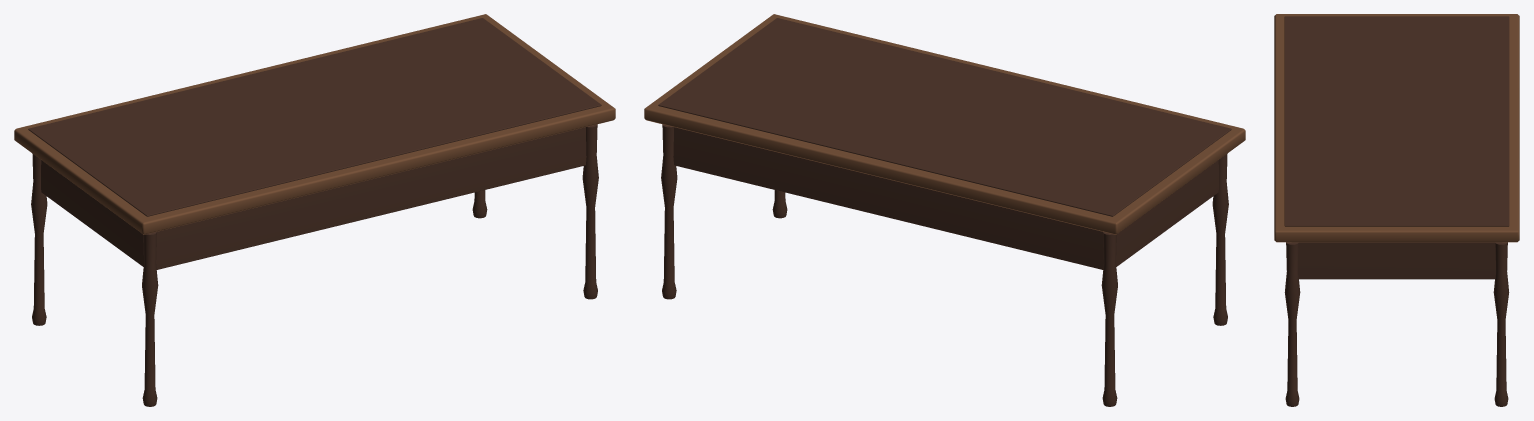
Rendered from rpg-mansion-dining-table-01.glb.
3 views of the same model, side by side, from view 1: azimuth 30°, elevation 25°; view 2: azimuth 150°, elevation 25°; view 3: azimuth 270°, elevation 25° (orthographic). The views are drawn at different scales.
Visible parts, largest first — view 1: rpg-mansion-dining-table-01; view 2: rpg-mansion-dining-table-01; view 3: rpg-mansion-dining-table-01.
Boxes of the visible parts, bbox=[...] form: rpg-mansion-dining-table-01: bbox=[14, 14, 615, 406]; rpg-mansion-dining-table-01: bbox=[644, 14, 1245, 406]; rpg-mansion-dining-table-01: bbox=[1274, 14, 1519, 406].
Size of the model in its own units: 2 by 0.78 by 0.95.
